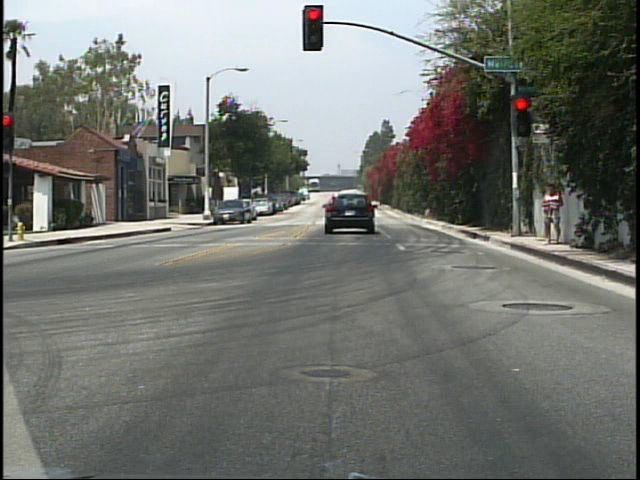person: (541, 183, 567, 247)
